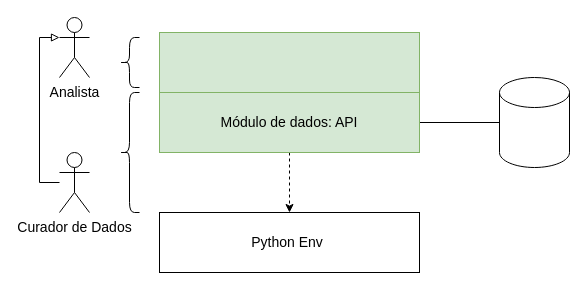
This 587x290 diagram has some shape labels left out. Here are the shapes that lost their labels. From the top down, the box of each, then its label:
(158, 32, 420, 92): Visualização e Análise
(498, 76, 570, 168): Postgres
